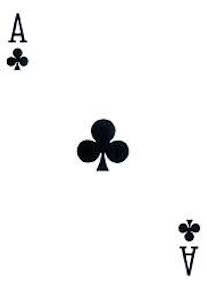AceOfClubs: (2, 3, 207, 287)
